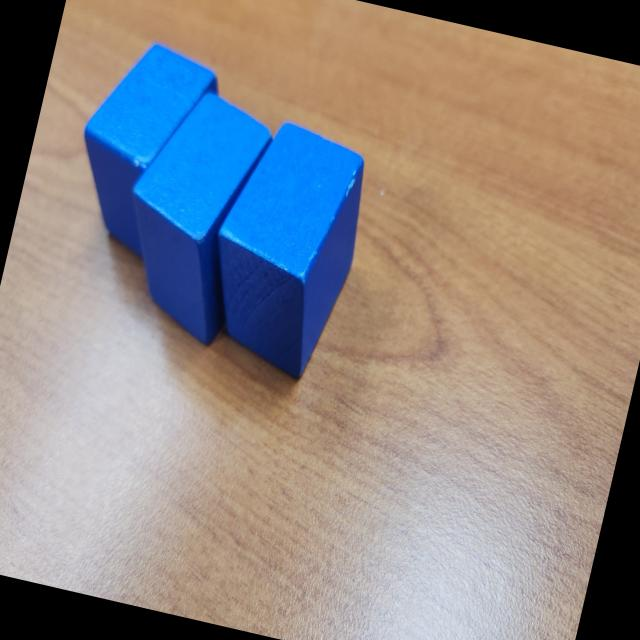blue: (189, 112, 381, 389), (100, 80, 280, 352), (56, 30, 228, 273)
